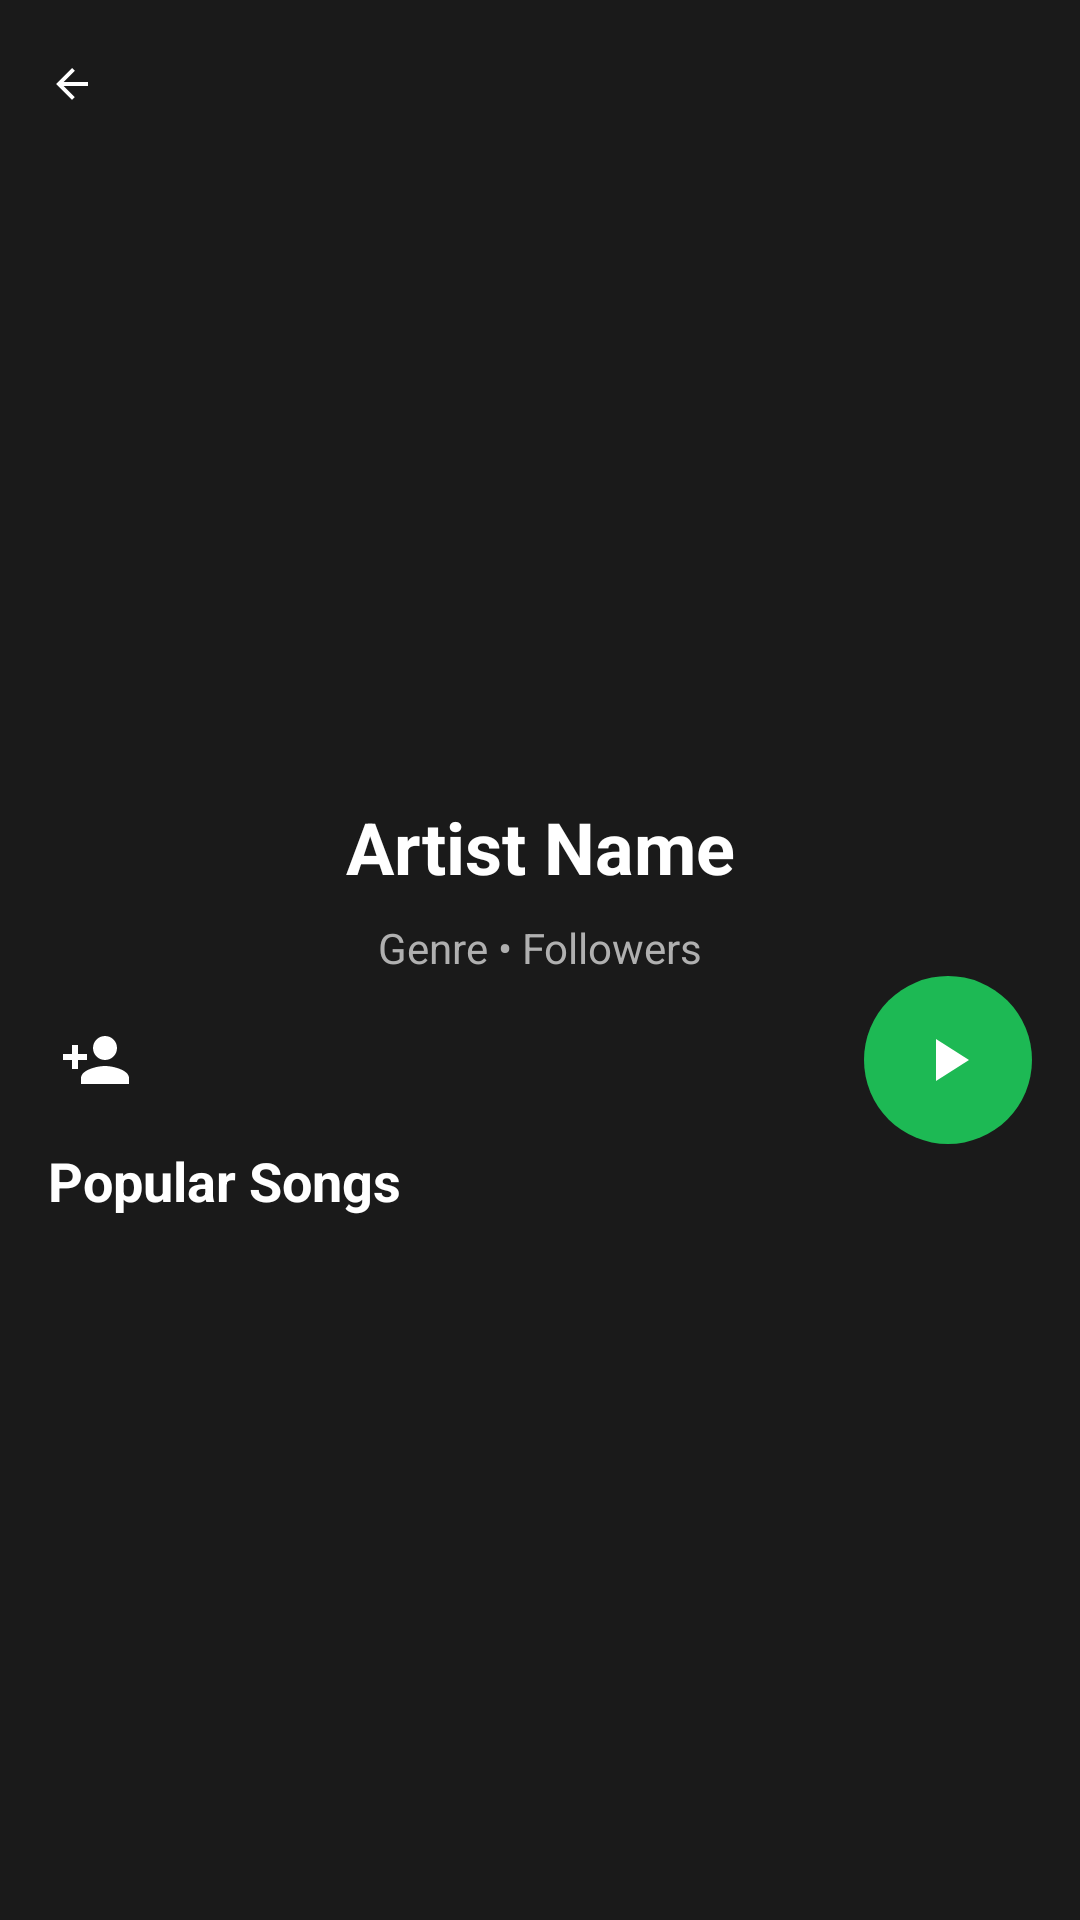

Icons on this 1080×1920 Android screen, each with the point to tap as (x,y):
Back: (72,84)
follow: (96,1060)
play: (948,1060)
